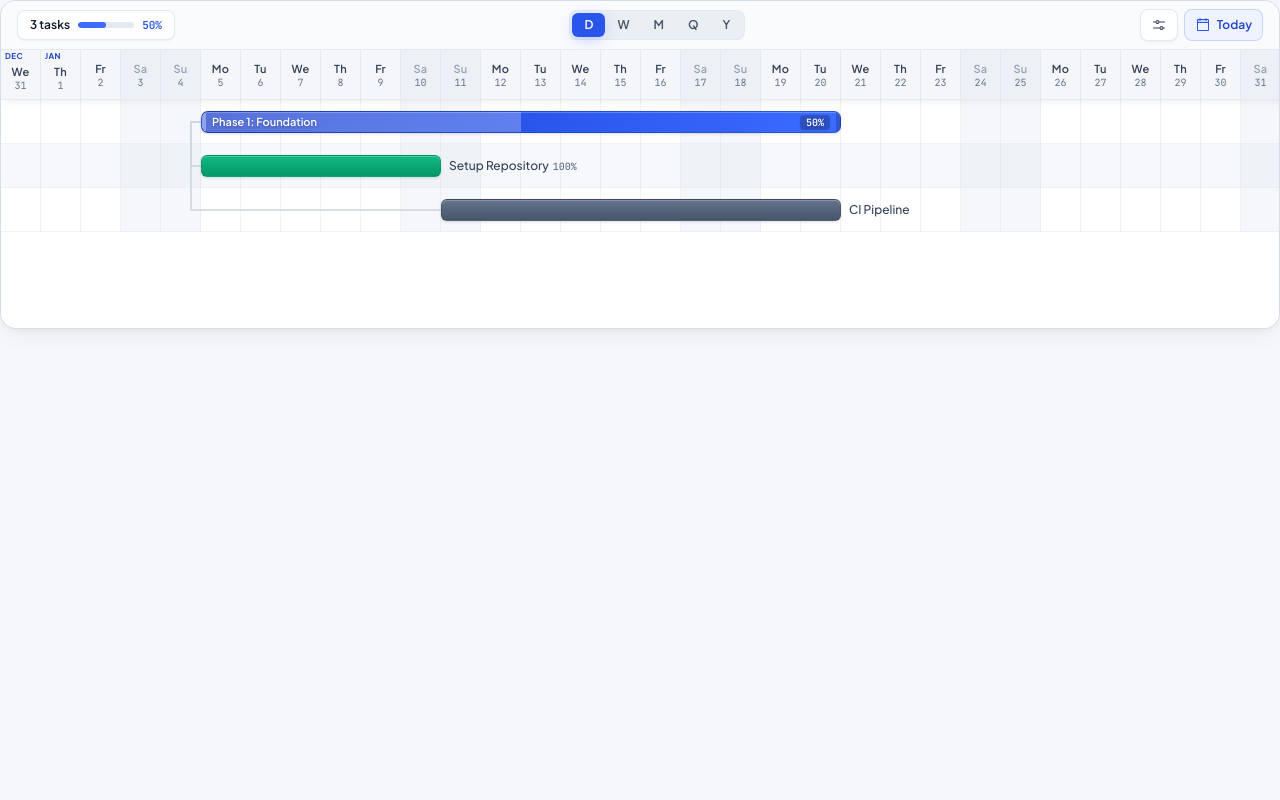
Test: GanttWorkspace unified split-pane alignment › provides a compact mobile Tools popover for Critical Path, Baseline, and Auto-Cascade on narrow screens
The width and height of the screenshot is (1280, 800).
Open mobile Tools popover
Click the button named "timeline view tools".
click(1159, 25)  # box 1140,9 -> 1178,41
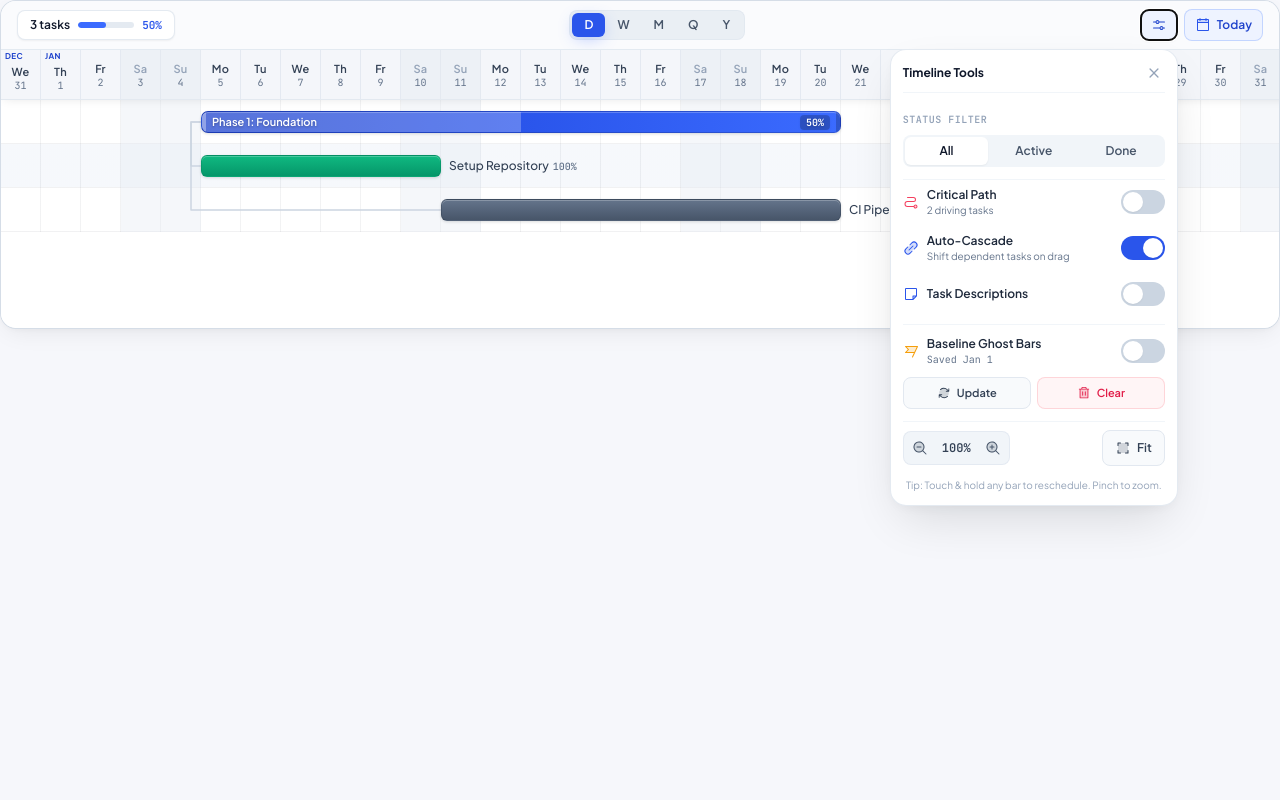
Expected: the dialog named "timeline view tools" is shown, 890,49 -> 1178,506
Toggle Critical Path and Baseline Ghost Bars from the mobile popover
Click the switch named "highlight critical path".
click(1143, 202)  # box 1121,190 -> 1165,214
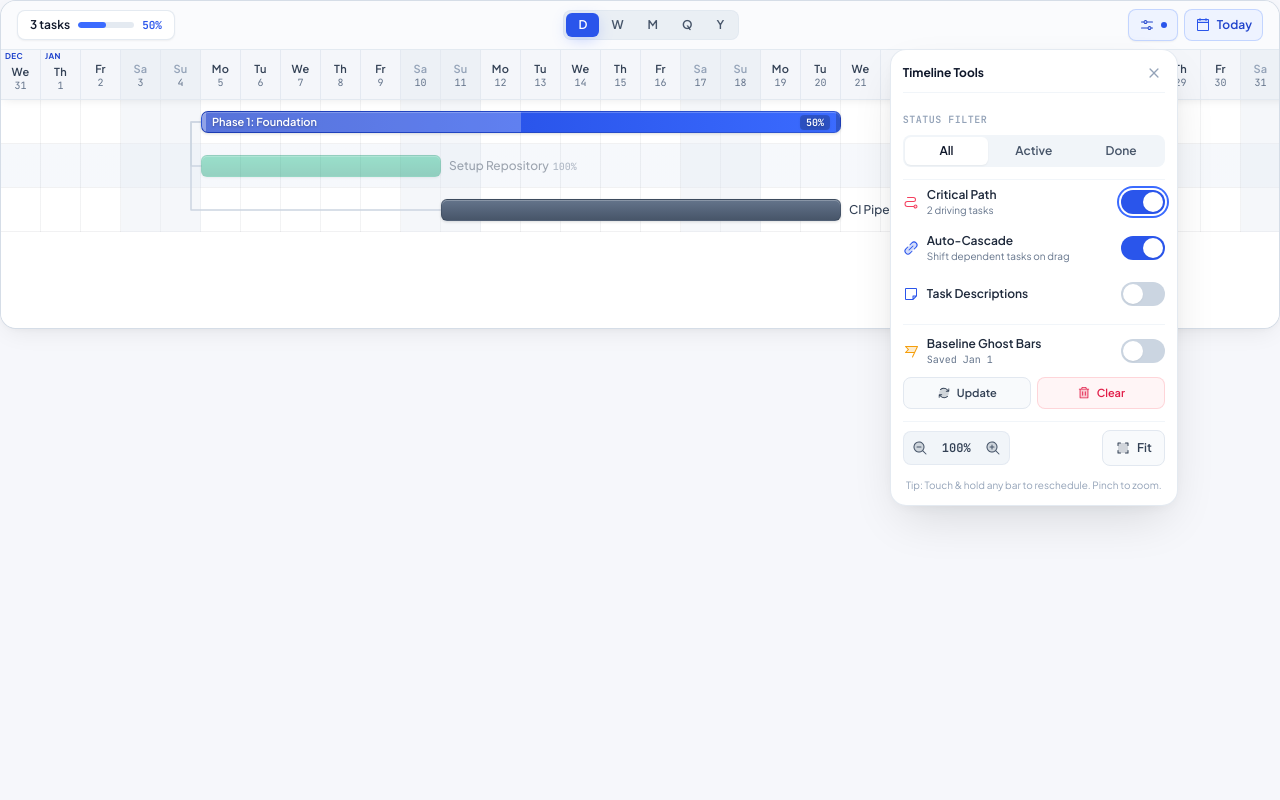
Click the switch named "show baseline ghost bars".
click(1143, 351)  # box 1121,339 -> 1165,363
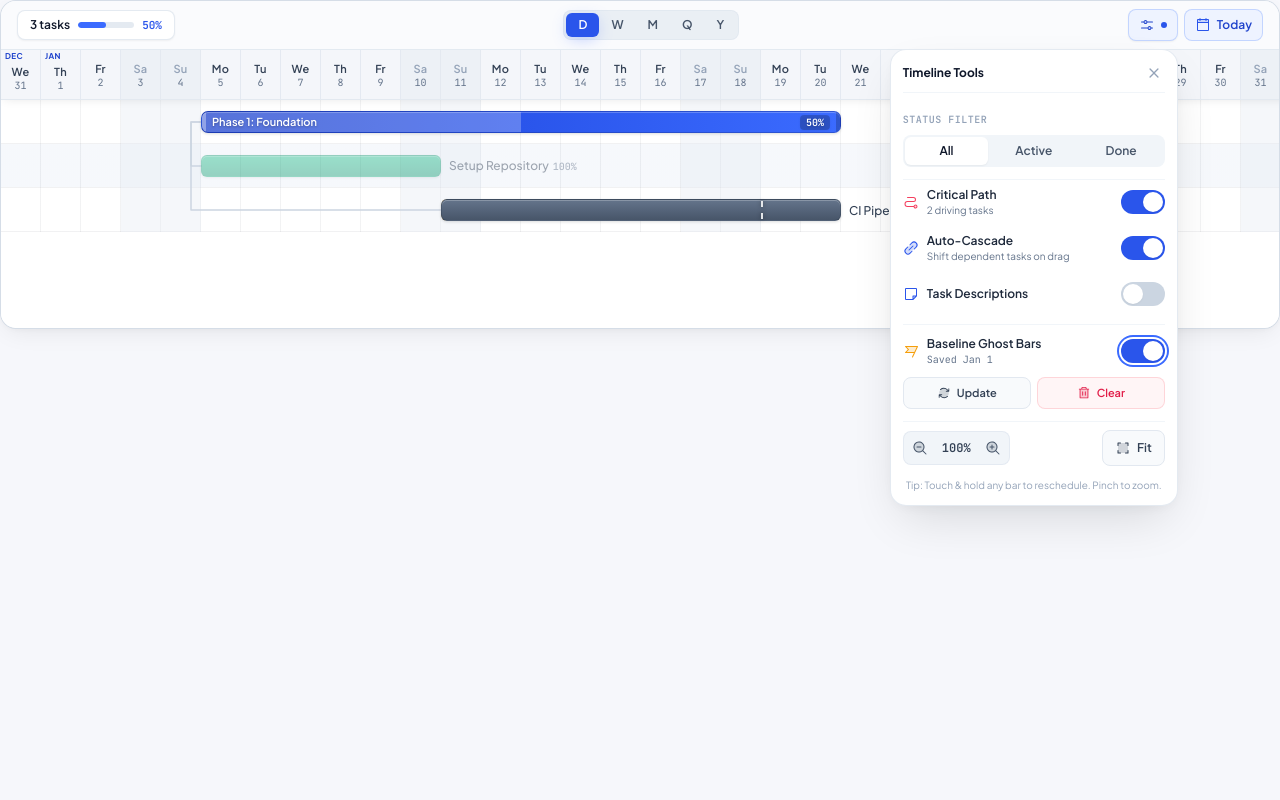
Expected: the element with test id "baseline-ghost-3" is shown, 441,199 -> 761,221
Click the switch named "disable auto-cascade dependent tasks".
click(1143, 248)  # box 1121,236 -> 1165,260
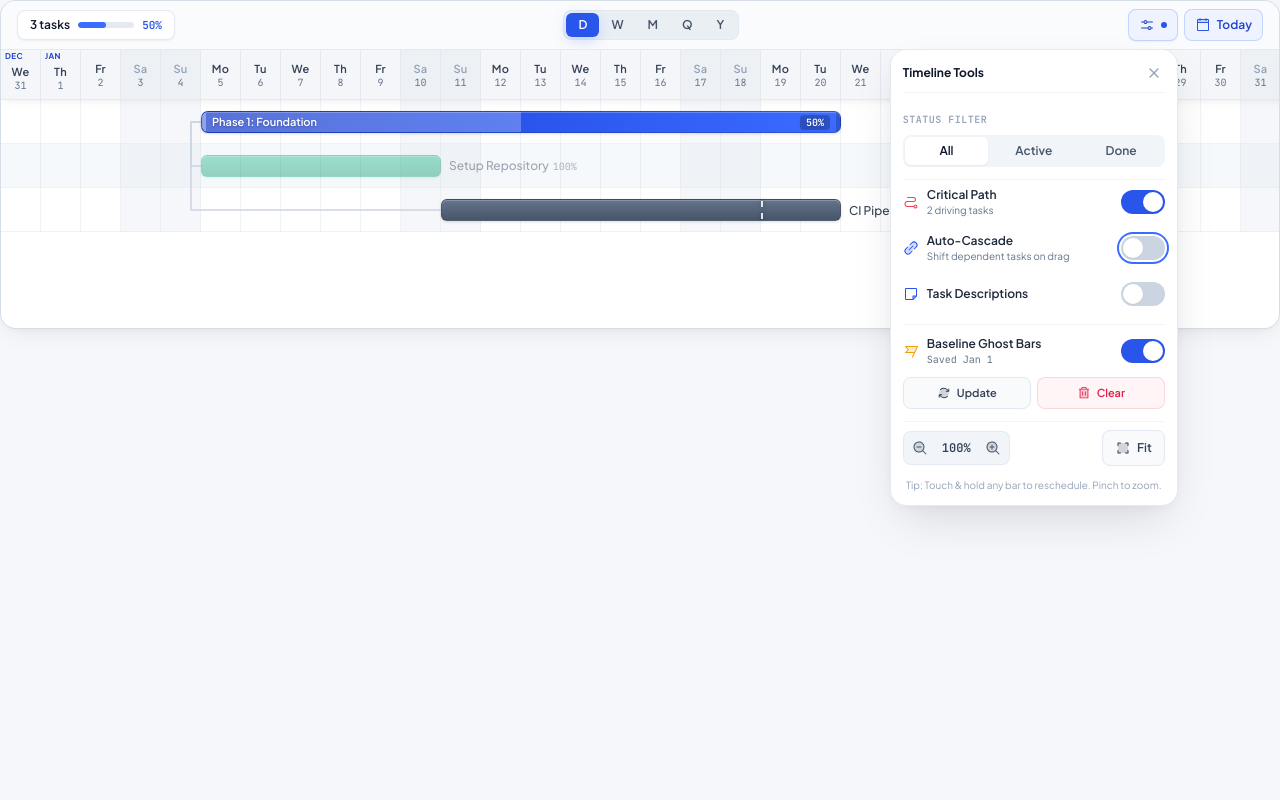
Expected: the switch named "enable auto-cascade dependent tasks" is not checked, 1121,236 -> 1165,260
